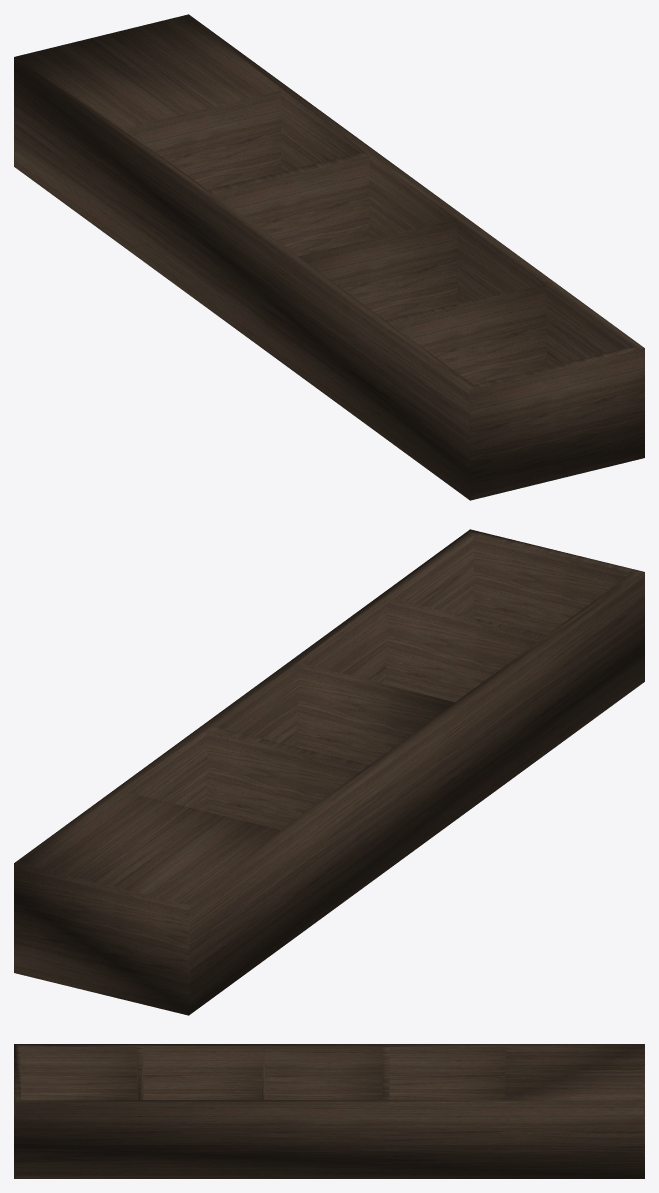
The model's file is ABC-53.obj.
3 views of the same model, one above another, from view 1: azimuth 30°, elevation 25°; view 2: azimuth 150°, elevation 25°; view 3: azimuth 270°, elevation 25° (orthographic). The views are drawn at different scales.
Visible parts, largest first — view 1: Layer_0; view 2: Layer_0; view 3: Layer_0.
Part boxes in pixels (x1,y1,x2,y2): Layer_0: [14, 14, 644, 500]; Layer_0: [14, 529, 644, 1015]; Layer_0: [14, 1044, 644, 1178].
Size of the model in its own units: 500 by 300 by 2260.
